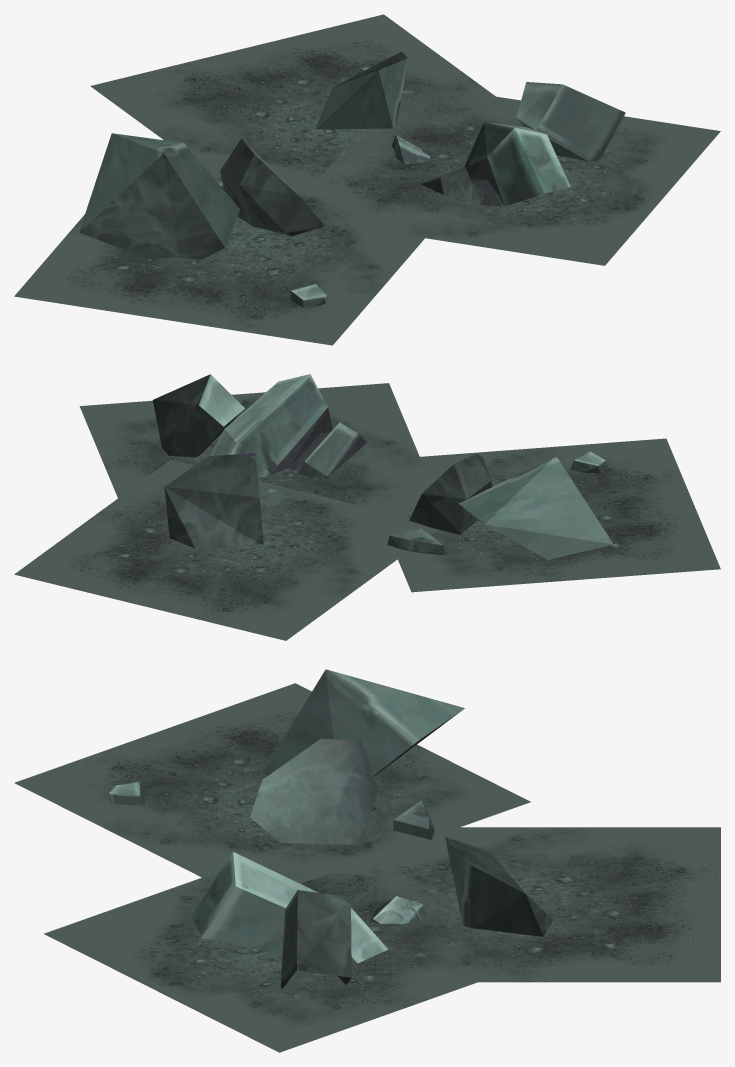
The model's file is crypt_rubble_03.fbx.
3 views of the same model, one above another, from view 1: azimuth 30°, elevation 25°; view 2: azimuth 150°, elevation 25°; view 3: azimuth 270°, elevation 25° (orthographic). The views are drawn at different scales.
Visible parts, largest first — view 1: obj2.004; view 2: obj2.004; view 3: obj2.004.
Part boxes in pixels (x1,y1,x2,y2): obj2.004: (14, 14, 720, 345); obj2.004: (14, 374, 720, 640); obj2.004: (14, 669, 720, 1052).
Size of the model in its own units: 9.53 by 1.54 by 7.7.
